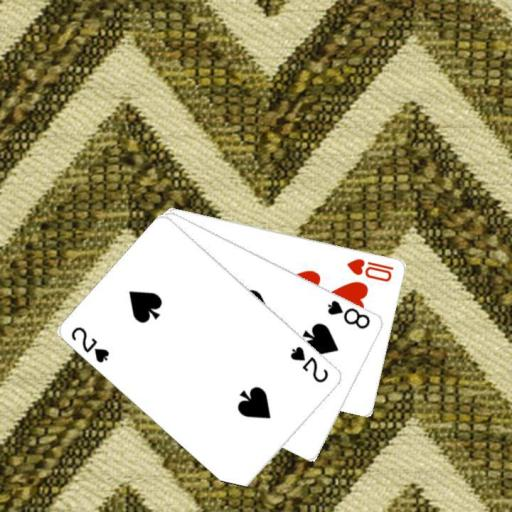10H: (345, 255, 396, 283)
2S: (287, 343, 331, 385), (68, 323, 112, 365)
8S: (324, 297, 373, 331)
